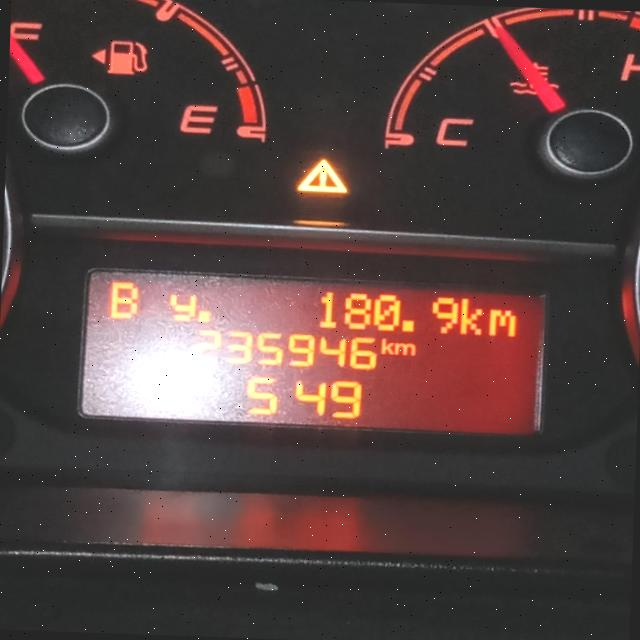odometer: (71, 259, 557, 443)
